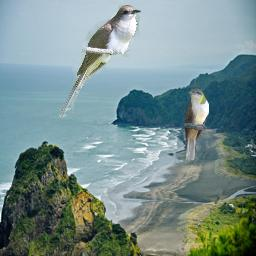Cuckoo: (58, 5, 141, 118), (183, 88, 209, 160)
